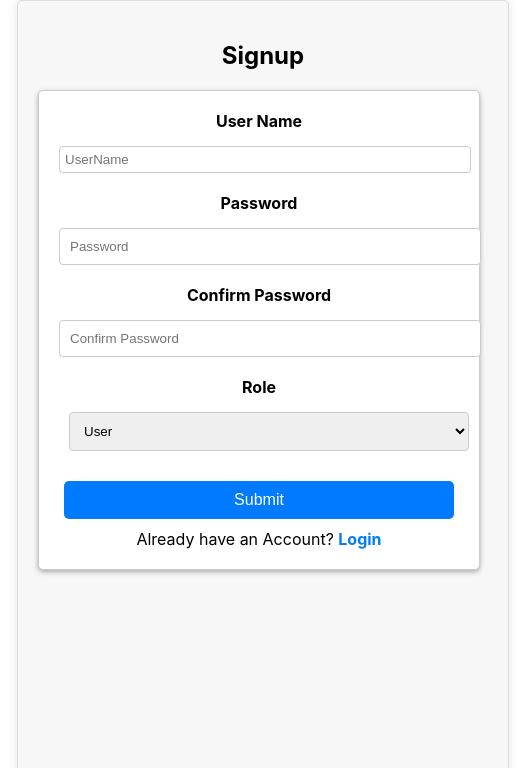
signup_component › signup_should_show_an_error_message_when_attempting_to_submit_the_form_with_empty_fields
This screenshot has width=527, height=768.
Click the button "Submit".
click(259, 500)  # box [64, 481, 454, 519]
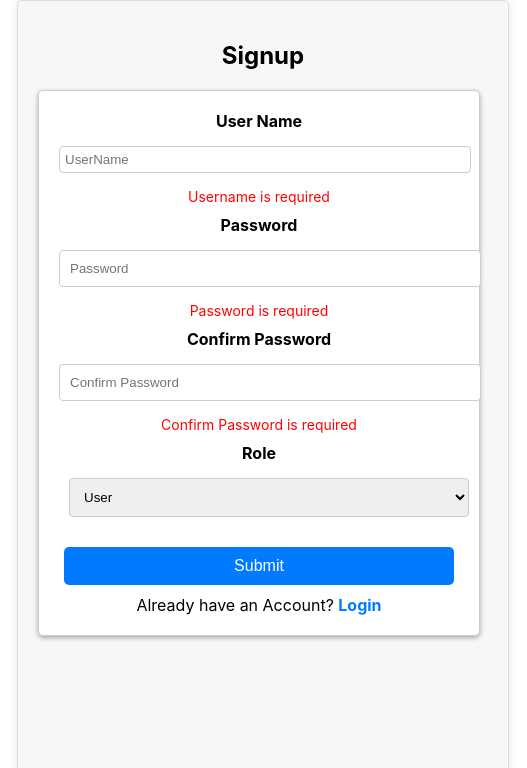
Expected: the text "Username is required" is shown, [188, 188, 330, 205]
Expected: the text "Password is required" is shown, [190, 302, 328, 319]
Expected: the text "Confirm Password is required" is shown, [161, 416, 357, 433]
